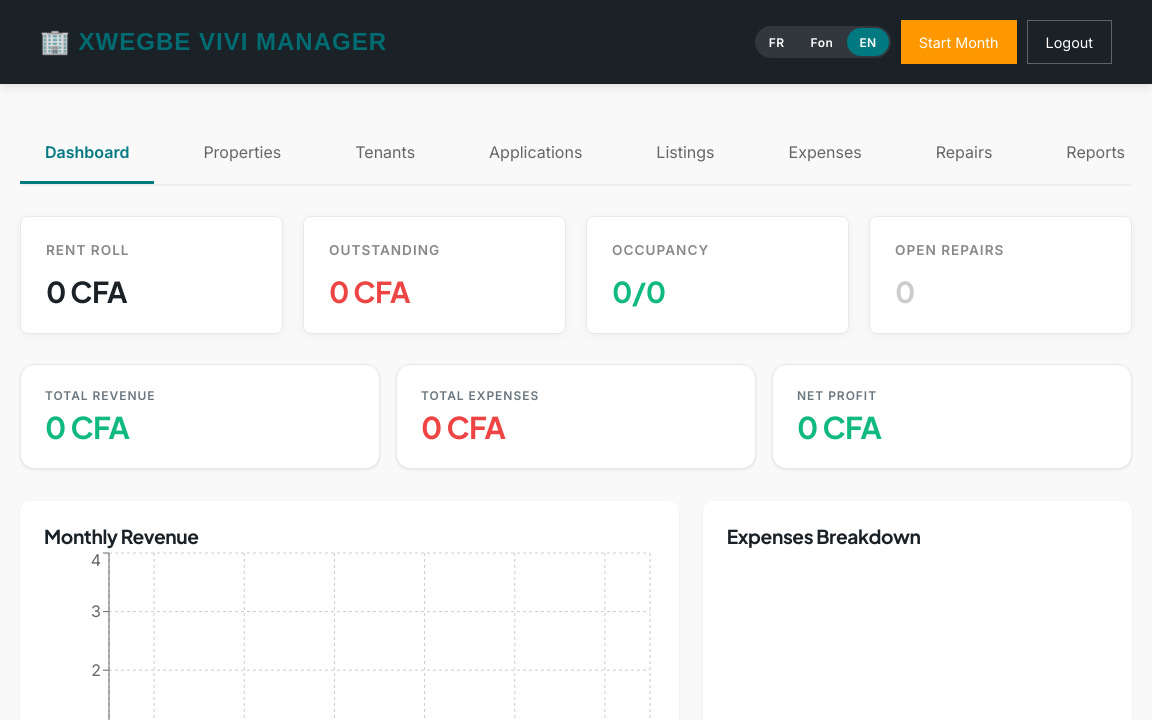
Test case: LandlordDashboard › navigates to Tenants tab and opens add tenant form
Click the text "Tenants".
click(385, 152)  # box [355, 142, 415, 162]
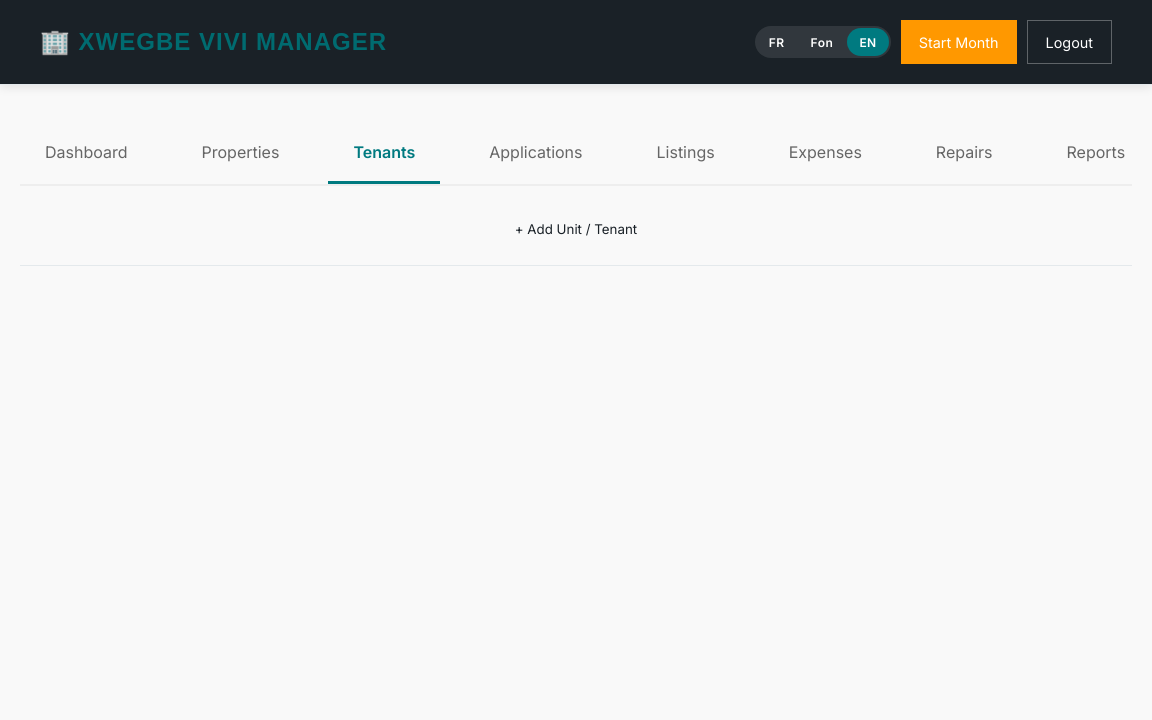
Expected: the button "+ Add Unit / Tenant" is shown
Click the button "+ Add Unit / Tenant".
click(576, 229)  # box [20, 220, 1132, 238]
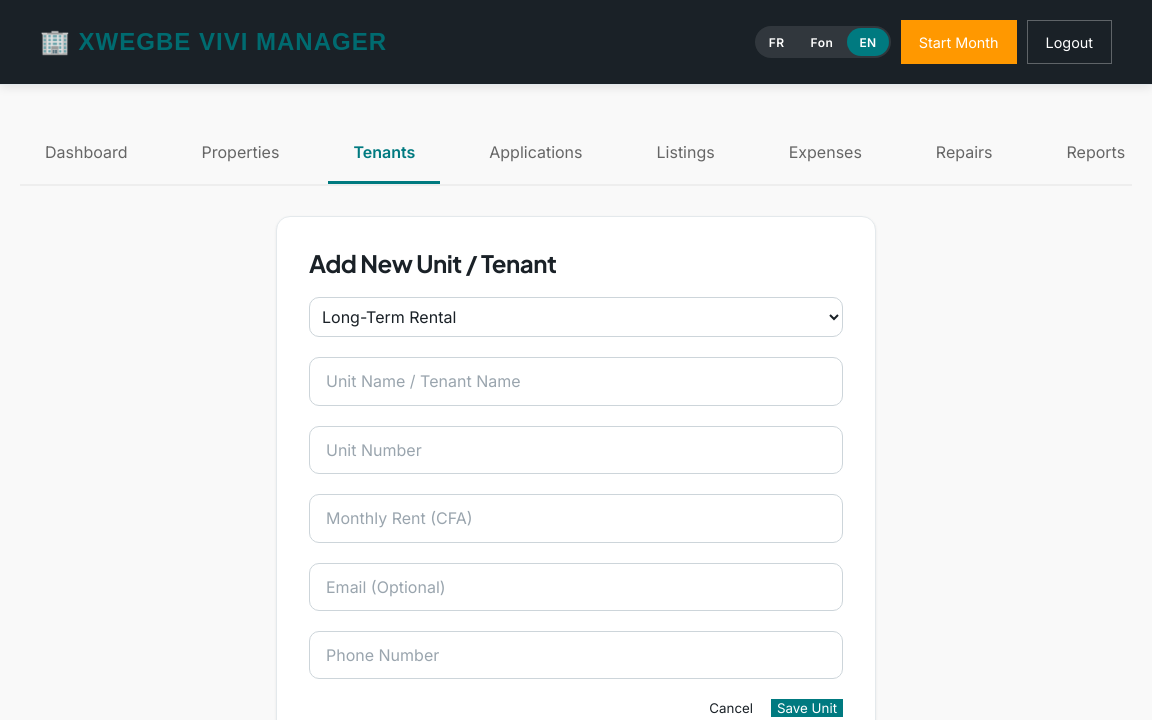
Expected: the field with placeholder "Unit Name / Tenant Name" is shown, [309, 357, 843, 406]
